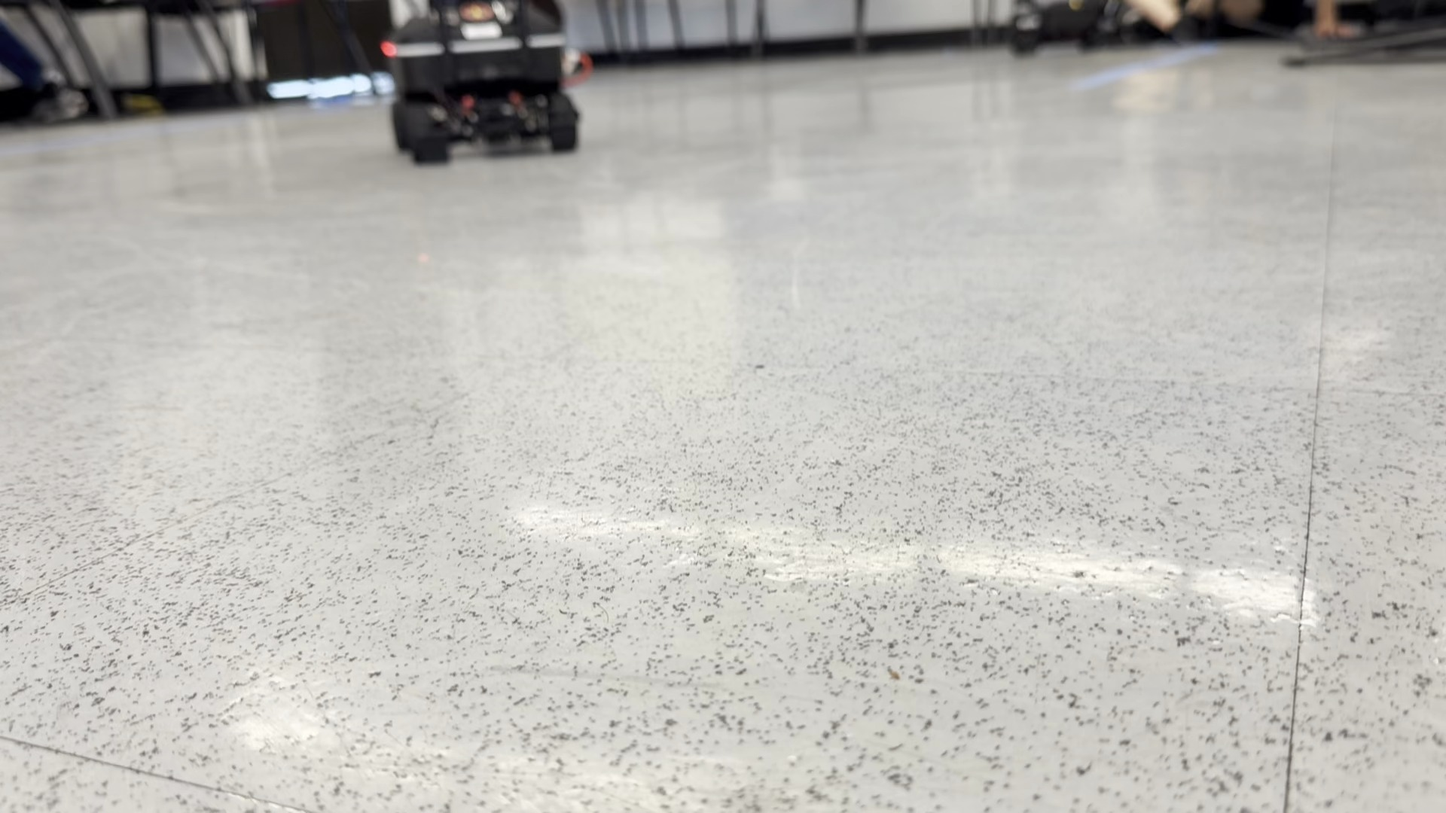racecar: (383, 2, 583, 166)
